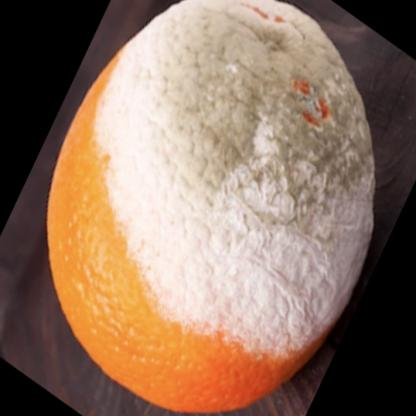rotten: (47, 1, 376, 416)
